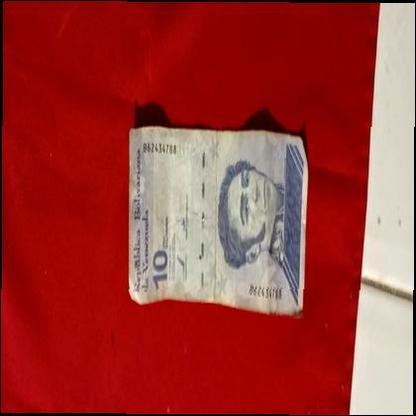vef_front: (124, 110, 318, 288)
